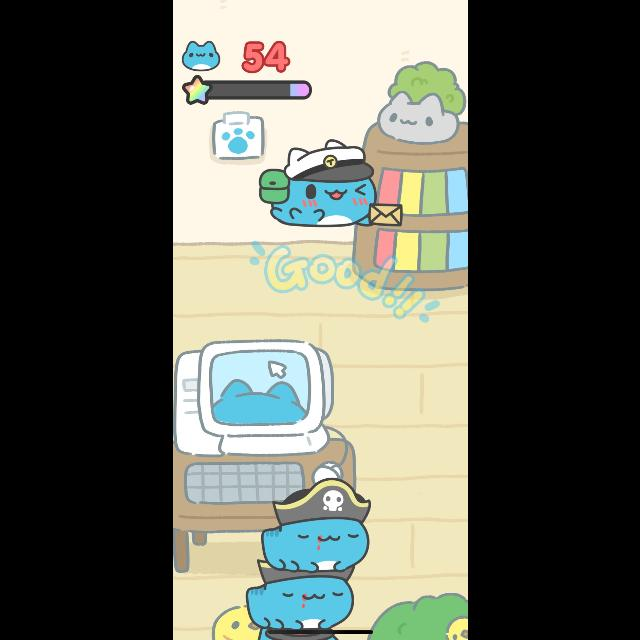capoo: (260, 136, 402, 230), (256, 480, 374, 574), (241, 568, 359, 634)
